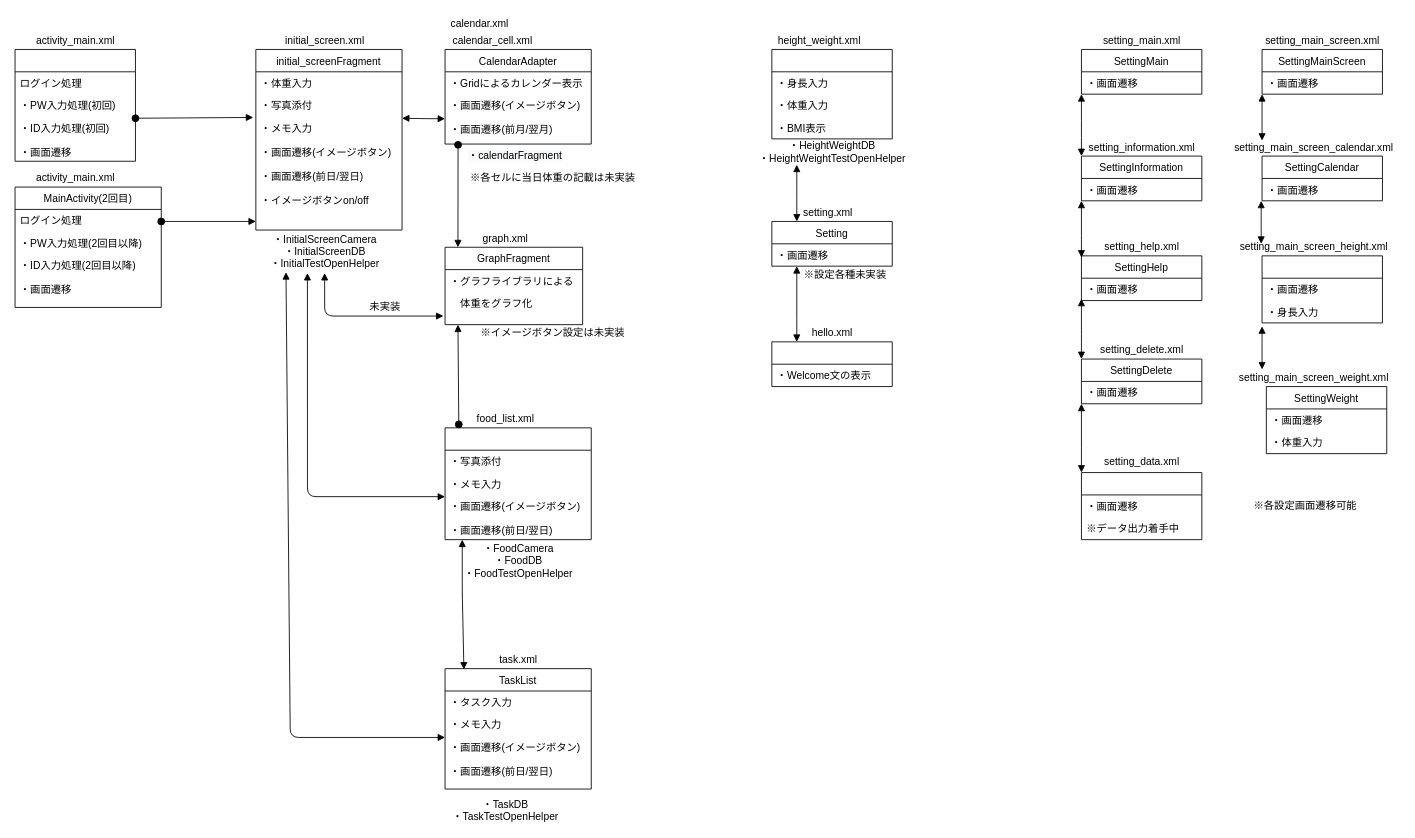
The diagram is 1415 pixels wide and 838 high, and some of its shapes have lost their labels. The box of each missing label's shape, as (x1, y1, x2, y2) in pixels:
FoodList: (444, 427, 591, 540)
height_weightFragment: (771, 49, 892, 139)
helloFragment: (771, 341, 892, 387)
MainActivity(1回目): (14, 49, 135, 161)
SettingData: (1081, 472, 1202, 540)
SettingHeight: (1261, 255, 1382, 323)
